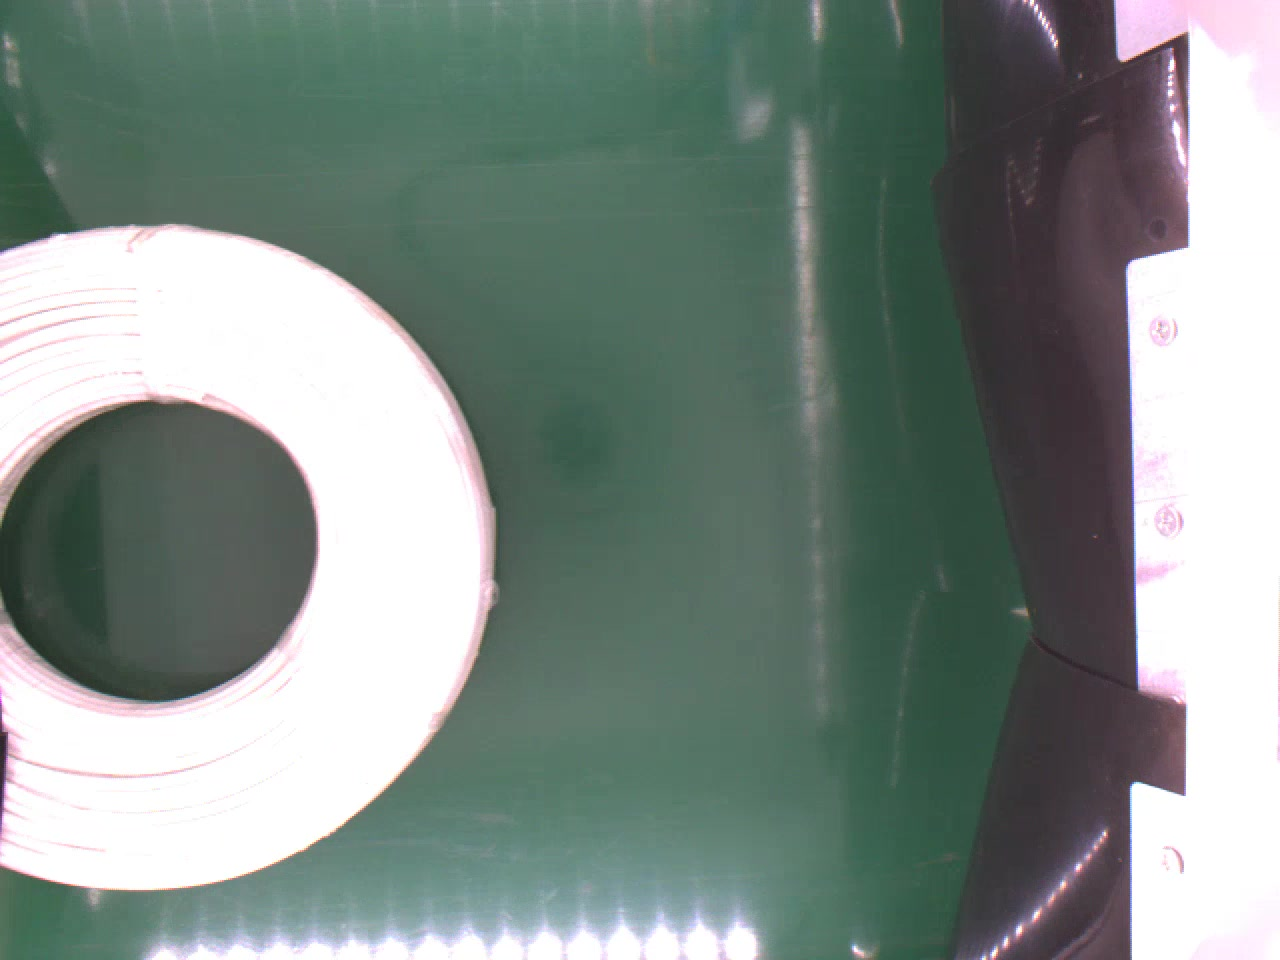white: (0, 219, 500, 893)
